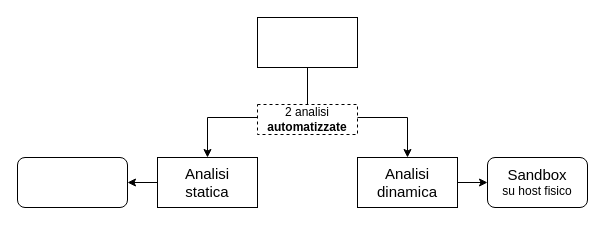
Some shapes in this 605 by 225 pixel diagram are drawn without their labels. The shapes that lost their labels are listed below. From the top down, each one's centre as x and y in pixels, then its label:
At point (307, 42): "Malware".
At point (72, 182): "Tool in Docker deploy su AWS".
